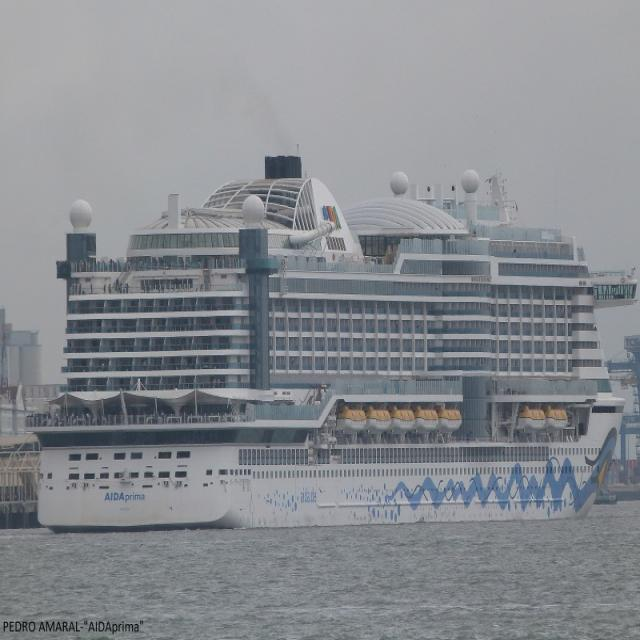cruises: (44, 126, 624, 532)
